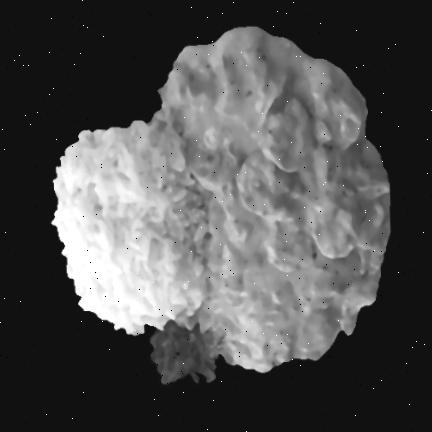chicken: (161, 28, 390, 370)
rice: (53, 113, 207, 335)
